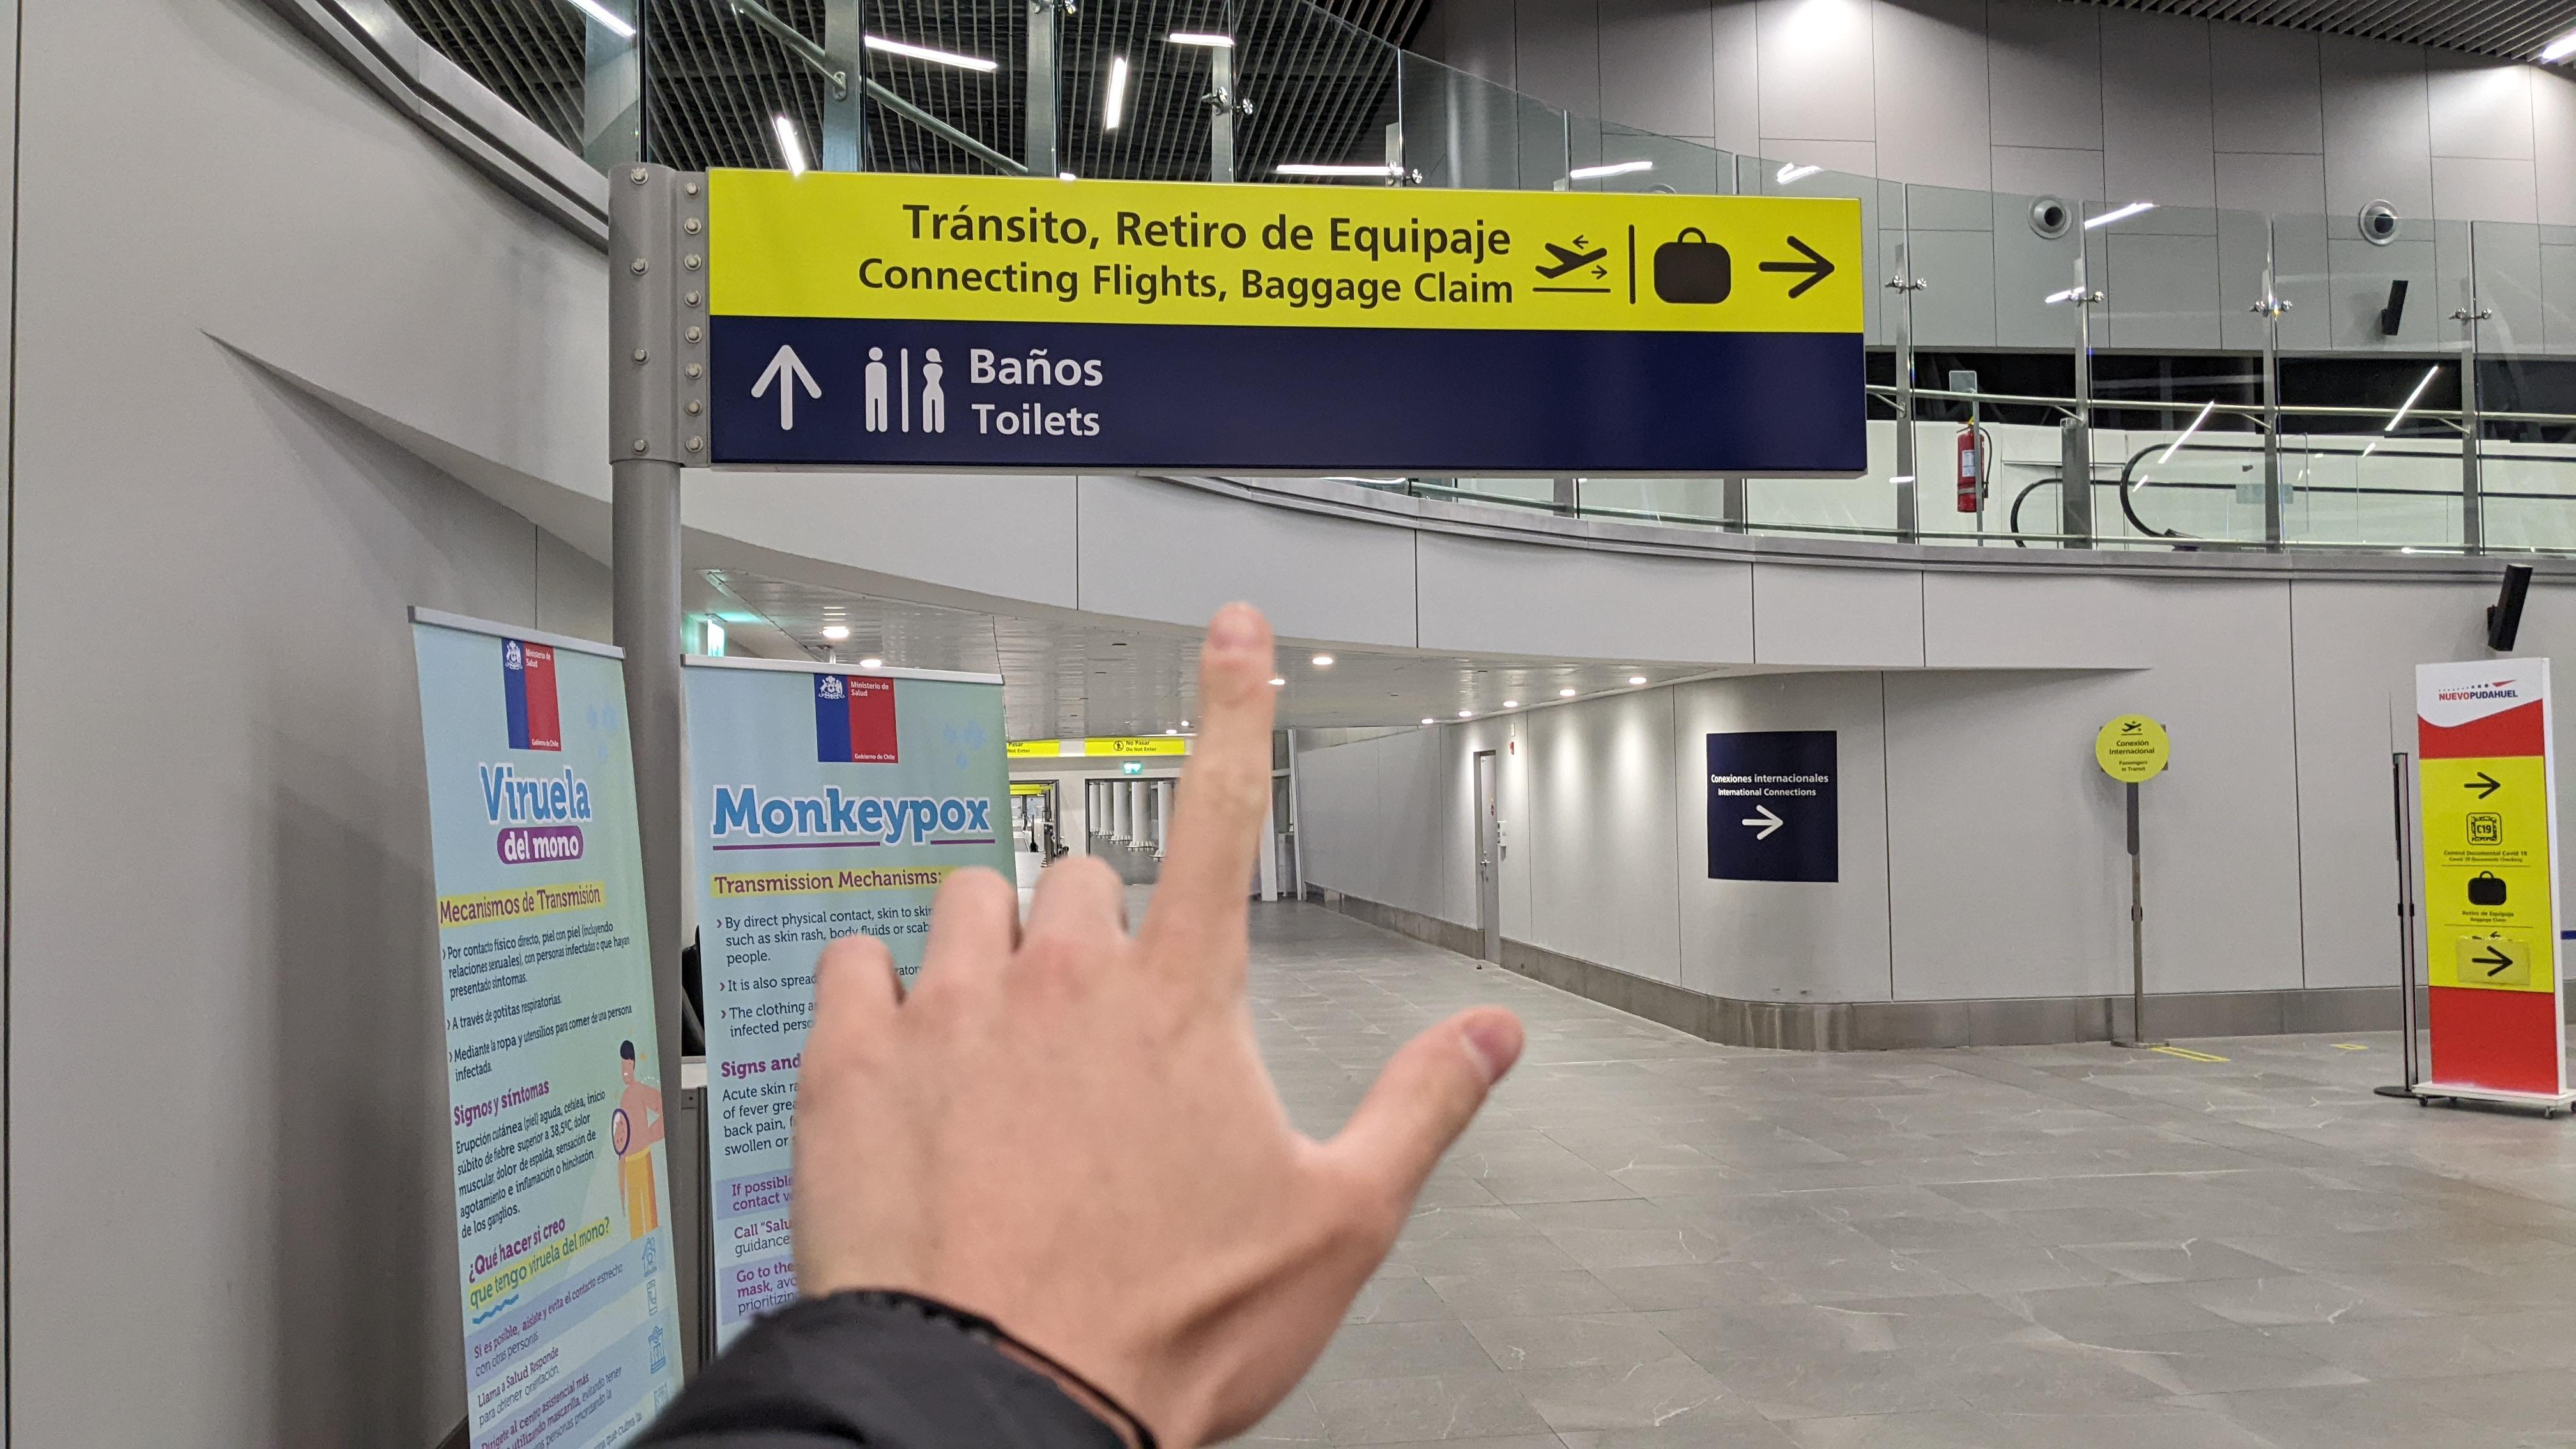airplane symbol: (1532, 234, 1614, 284), (2119, 717, 2144, 735)
baggage claim: (1652, 226, 1735, 308), (2464, 868, 2517, 908)
bathrooms: (854, 344, 953, 440)
fire-extinguisher: (1951, 415, 1993, 516)
thin right arrow: (1758, 233, 1838, 302), (2467, 943, 2520, 979), (1741, 804, 1786, 843), (2462, 769, 2503, 804)
thin up arrow: (747, 341, 829, 435)
